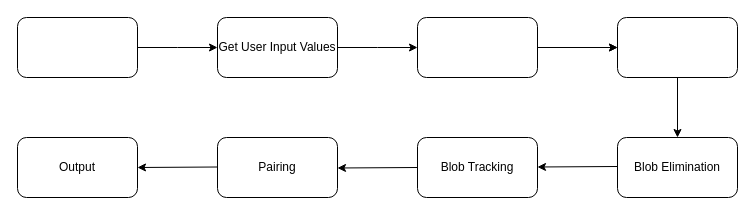
Some shapes in this 755 by 215 pixel diagram are drawn without their labels. The shapes that lost their labels are listed below. From the top down, each one's centre as x and y in pixels, then its label:
At pixel 77 47: "Load Video".
At pixel 477 47: "Image Processing".
At pixel 677 47: "Blob Detection".
